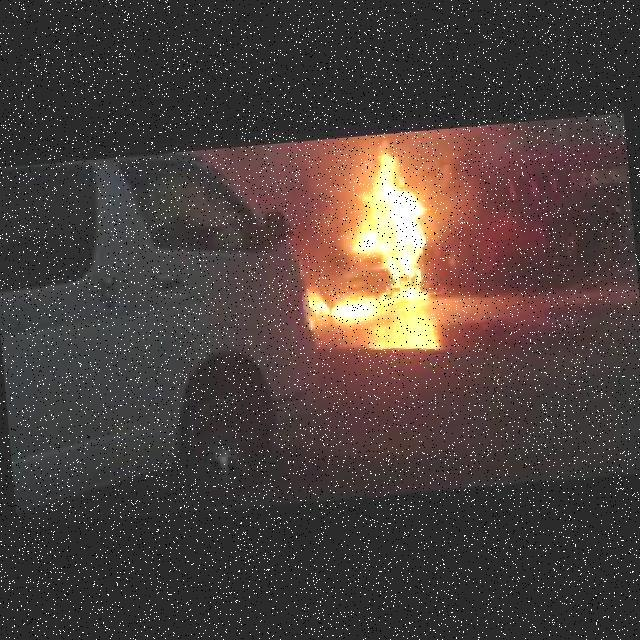Fire: (346, 149, 435, 303), (303, 283, 376, 323)
